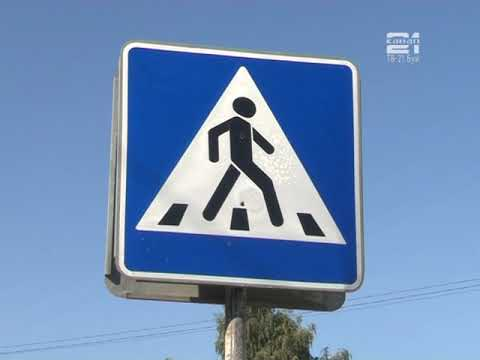yaya_gecidi_levha: (118, 46, 363, 296)
